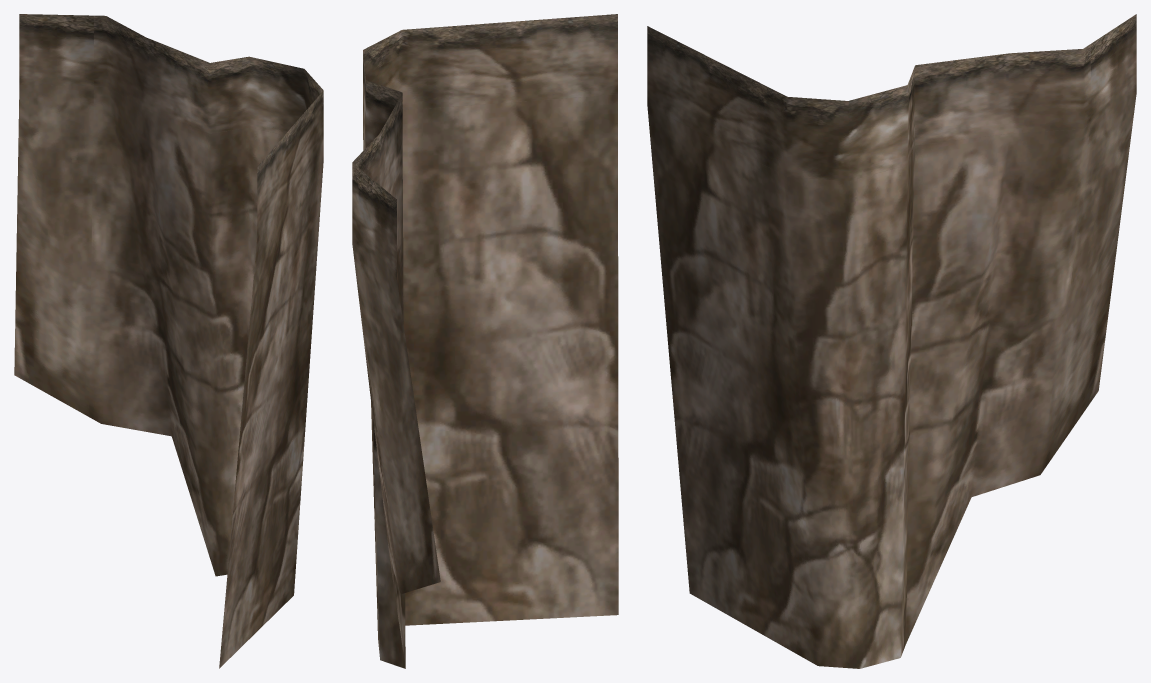
The model's file is OVERHILL_A_01_LINE58.fbx.
3 renders of one model, left to right at view 1: azimuth 30°, elevation 25°; view 2: azimuth 150°, elevation 25°; view 3: azimuth 270°, elevation 25°, orthographic. The views are drawn at different scales.
Visible parts, largest first — view 1: OVERHILL_A_01_LINE58; view 2: OVERHILL_A_01_LINE58; view 3: OVERHILL_A_01_LINE58.
Boxes of the visible parts, bbox=[...] form: OVERHILL_A_01_LINE58: bbox=[14, 14, 323, 668]; OVERHILL_A_01_LINE58: bbox=[352, 14, 618, 668]; OVERHILL_A_01_LINE58: bbox=[647, 14, 1136, 668].
Size of the model in its own units: 13974 by 38038 by 29160.
2 materials, 2 textured.
